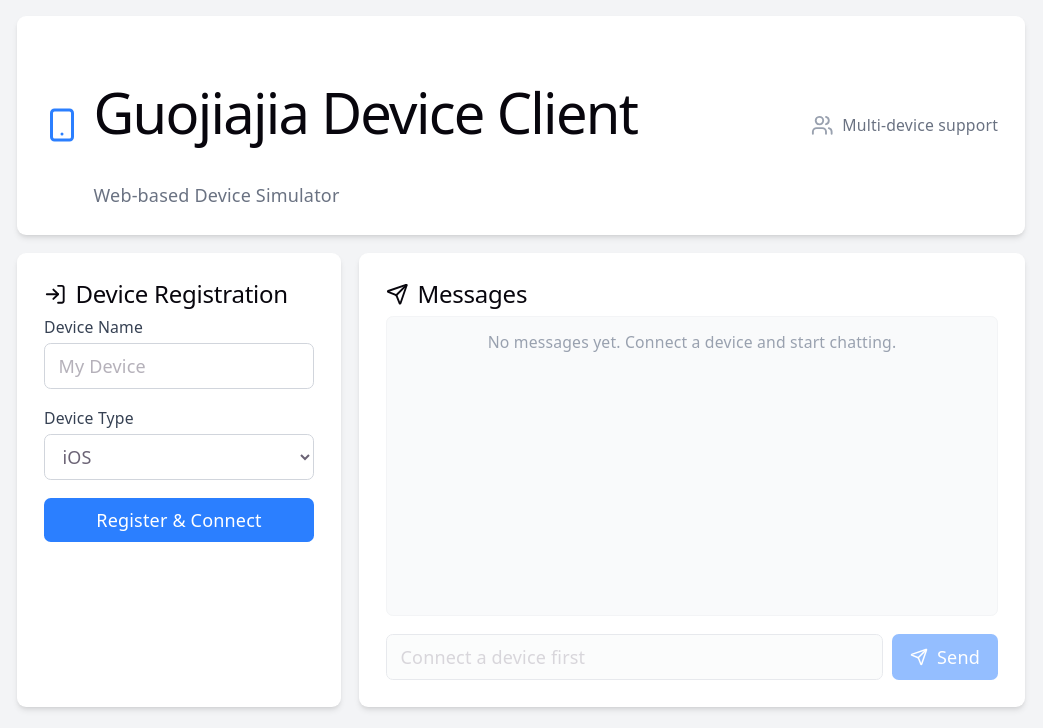
Test: Device registration › shows error message on fetch failure
Click the button "Register & Connect" at (179, 520), box x1=44 y1=498 x2=314 y2=542
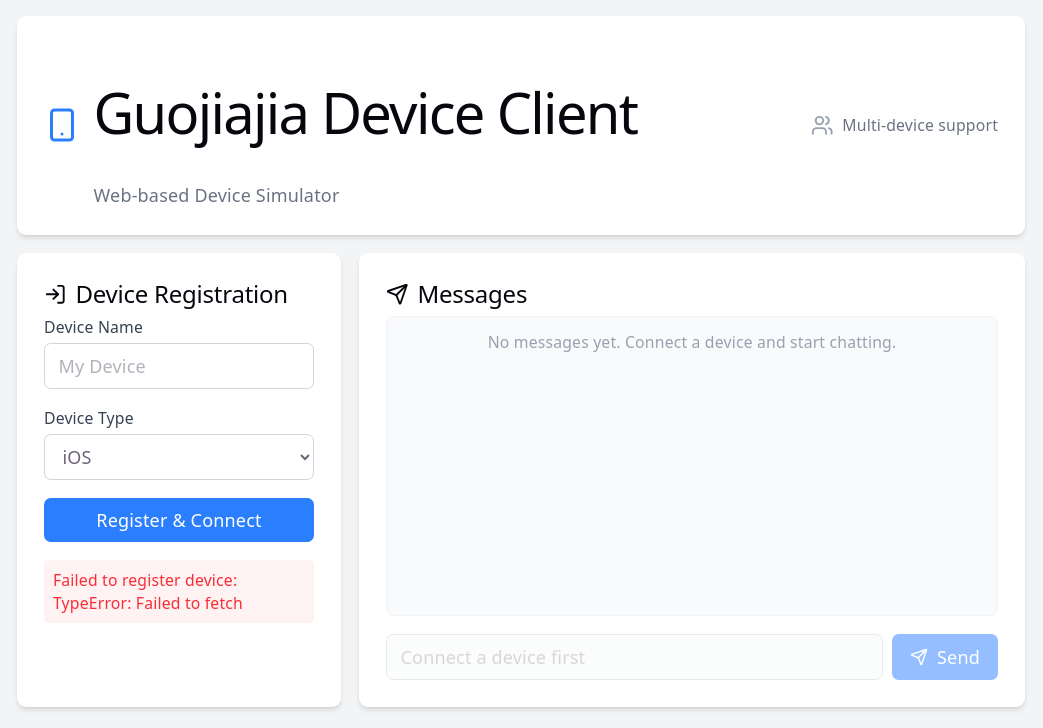
Expected: the text "Failed to register device: TypeError: Failed to fetch" is shown, x1=44 y1=560 x2=314 y2=623
